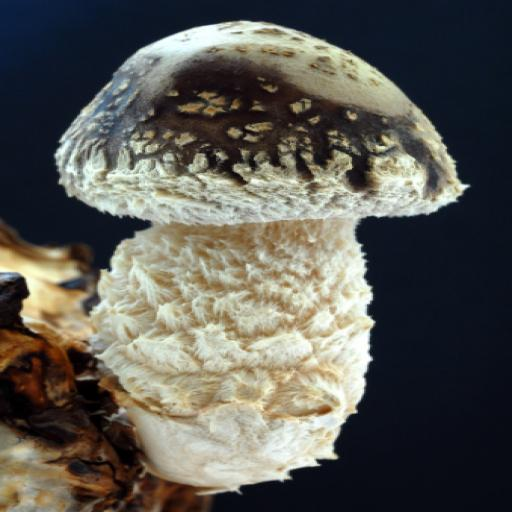Shiitake Mushroom: (0, 0, 479, 512)
